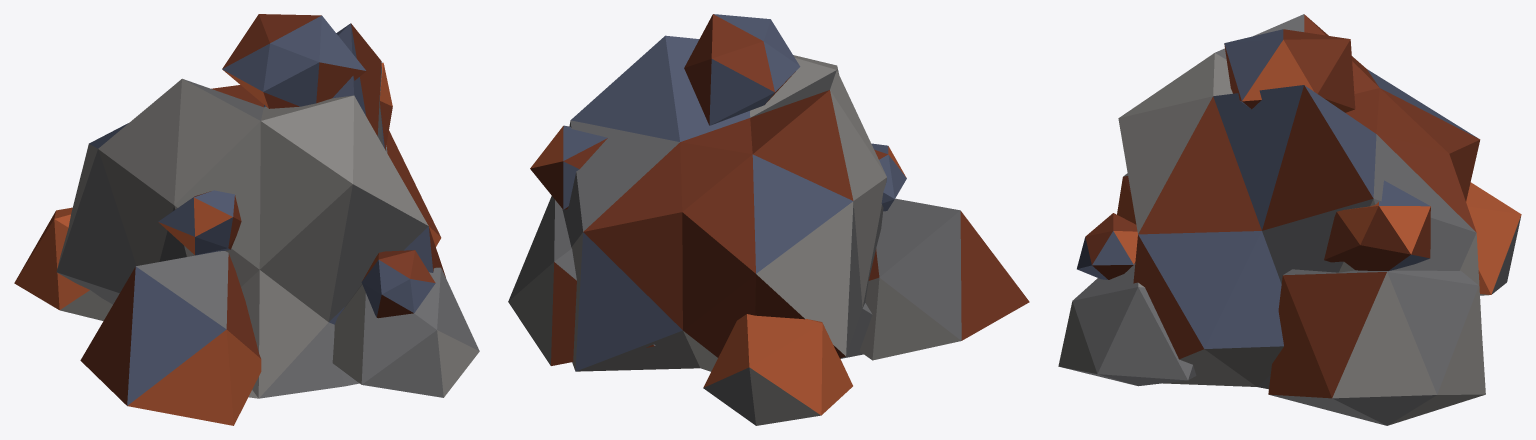
Rendered from iron_ore_a.glb.
The picture shows the model from 3 angles, left to right: view 1: azimuth 30°, elevation 25°; view 2: azimuth 150°, elevation 25°; view 3: azimuth 270°, elevation 25°; orthographic projection. The views are drawn at different scales.
Visible parts, largest first — view 1: iron_ore_a; view 2: iron_ore_a; view 3: iron_ore_a.
Boxes of the visible parts, x1,y1,x2,y2 form: iron_ore_a: [14, 14, 479, 425]; iron_ore_a: [508, 14, 1029, 425]; iron_ore_a: [1058, 14, 1521, 425].
Bounding box in the file's own units: 1.17 × 0.8508 × 1.12.
